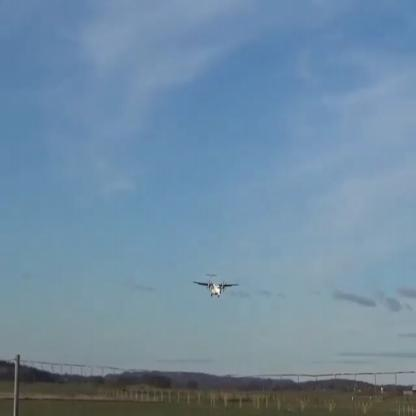CIV_Plane: (192, 274, 238, 298)
